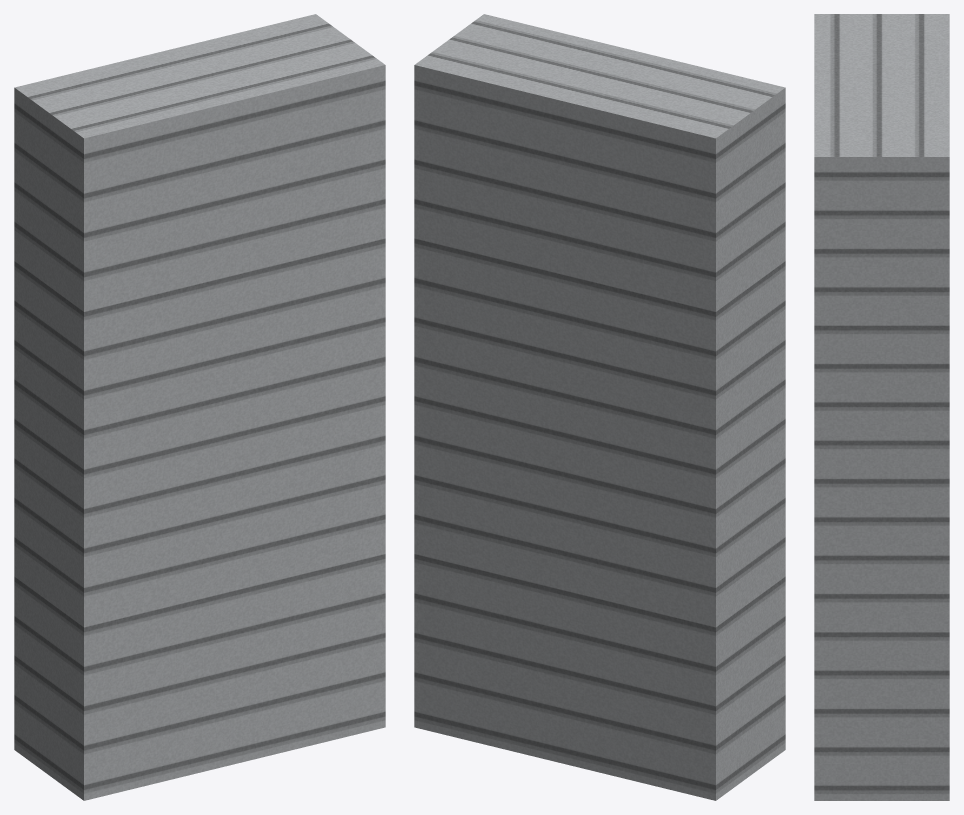
Rendered from butlers_pantry_glass_cabinet.glb.
3 renders of one model, left to right at view 1: azimuth 30°, elevation 25°; view 2: azimuth 150°, elevation 25°; view 3: azimuth 270°, elevation 25°, orthographic. The views are drawn at different scales.
Visible parts, largest first — view 1: butlers_pantry_glass_cabinet-col; view 2: butlers_pantry_glass_cabinet-col; view 3: butlers_pantry_glass_cabinet-col.
Boxes of the visible parts, x1,y1,x2,y2 form: butlers_pantry_glass_cabinet-col: (14, 14, 385, 800); butlers_pantry_glass_cabinet-col: (414, 14, 785, 800); butlers_pantry_glass_cabinet-col: (814, 14, 949, 800).
Bounding box in the file's own units: 1 × 2.1 × 0.4.
Materials: 1 (1 with a texture image).
